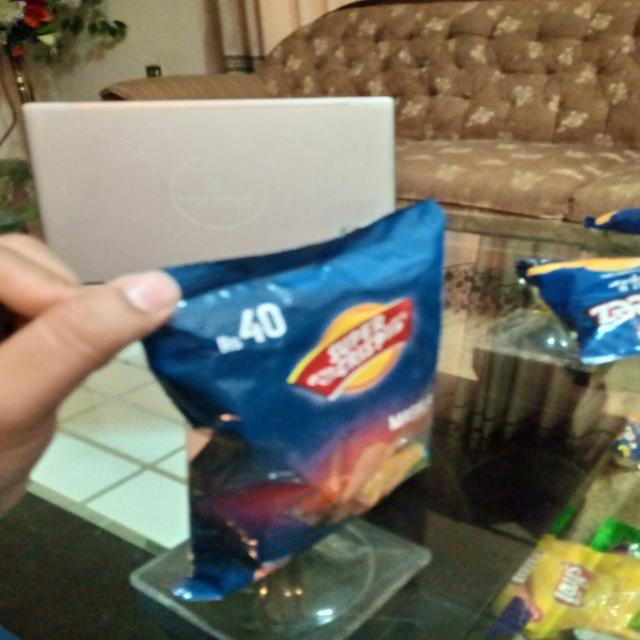Plastic: (162, 211, 450, 592)
